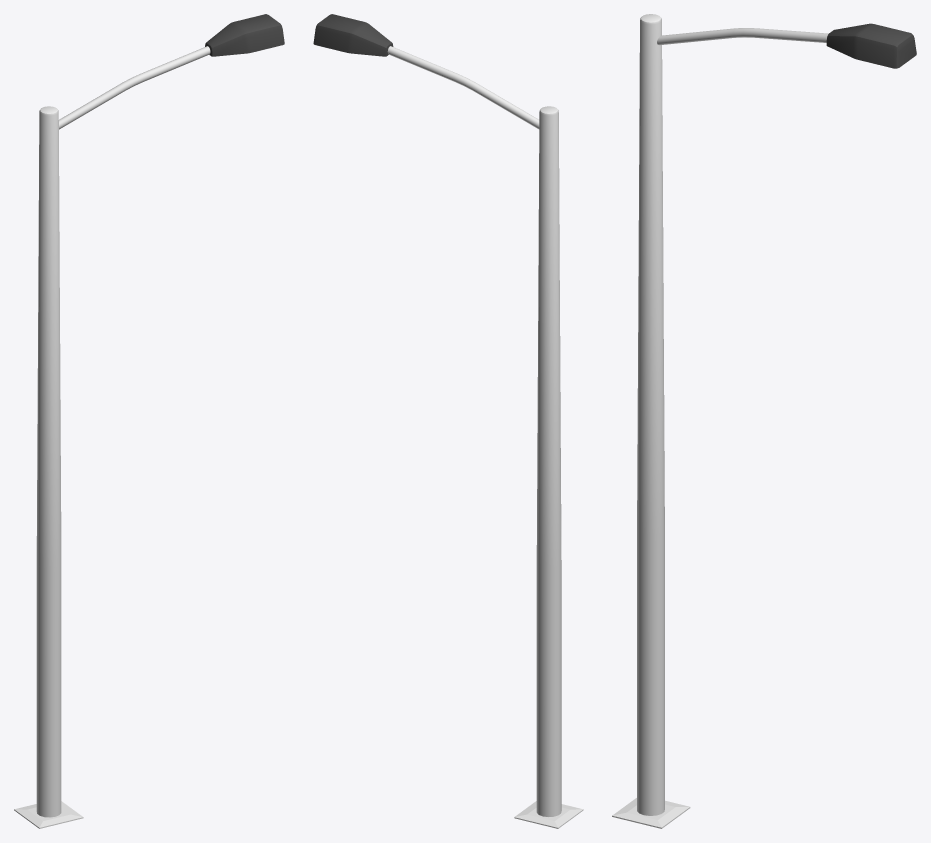
The model's file is modular-city-road-pack-game-ready-cylinder-002-16.glb.
3 views of the same model, side by side, from view 1: azimuth 30°, elevation 25°; view 2: azimuth 150°, elevation 25°; view 3: azimuth 330°, elevation 25° (orthographic). The views are drawn at different scales.
Visible parts, largest first — view 1: Cylinder.002_16; view 2: Cylinder.002_16; view 3: Cylinder.002_16.
Part boxes in pixels (x1,y1,x2,y2): Cylinder.002_16: [14, 14, 284, 828]; Cylinder.002_16: [313, 14, 583, 828]; Cylinder.002_16: [612, 14, 916, 828].
Bounding box in the file's own units: 0.9114 × 2.59 × 0.1605.
Materials: 1 (1 with a texture image).
